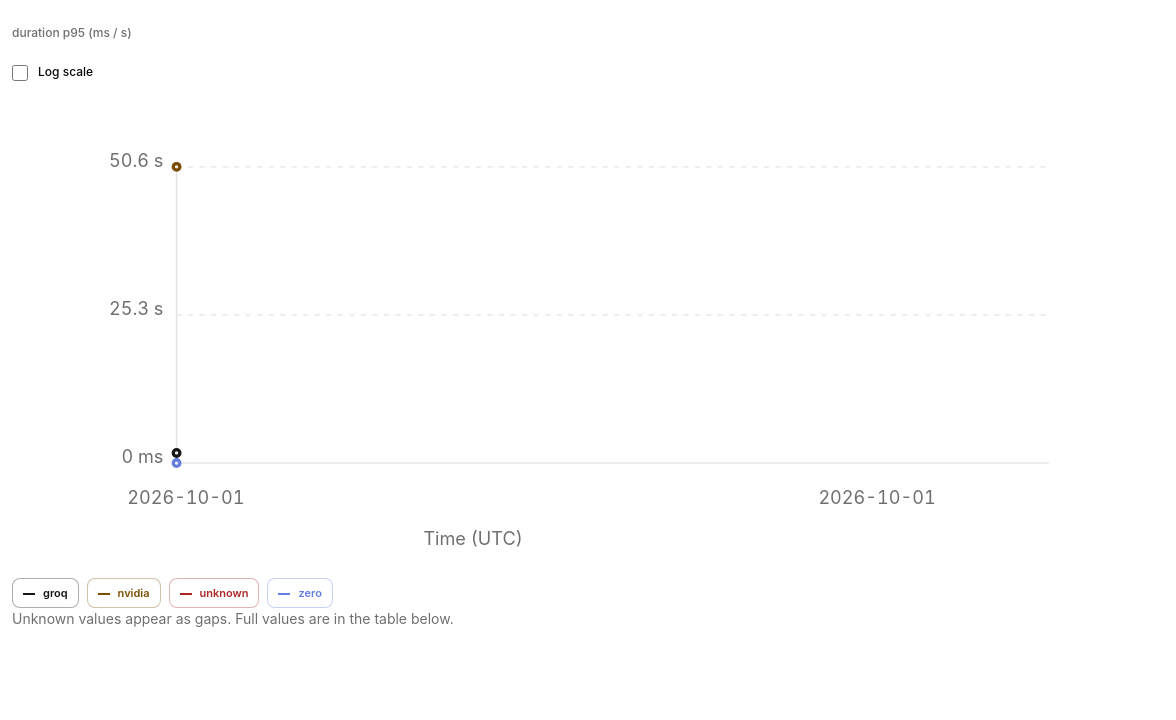
Test: log latency has labelled decade ticks, unknown and zero gaps, and a distinct scale
Click the checkbox labelled "Log scale".
click(20, 73)  # box [12,65,28,81]
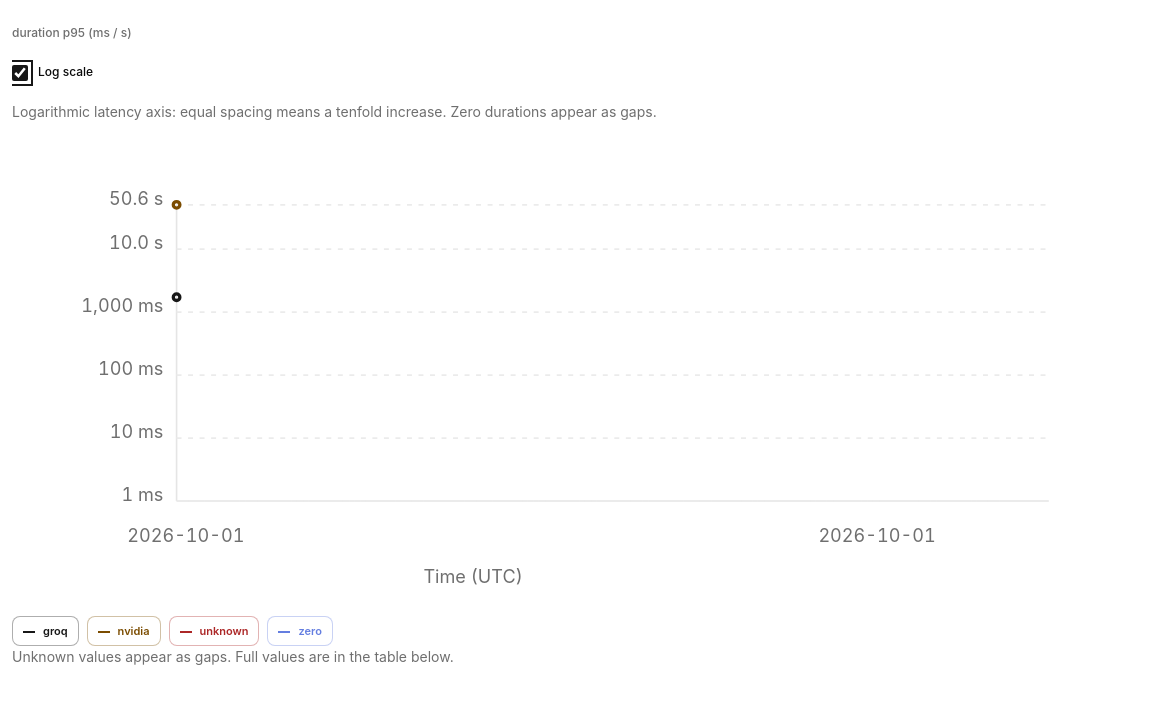
Expected: the picture shows "50.6 s", [109,187,163,209]
Expected: the picture shows "1 ms", [121,483,163,505]
Expected: the picture shows "10.0 s", [109,231,163,253]
